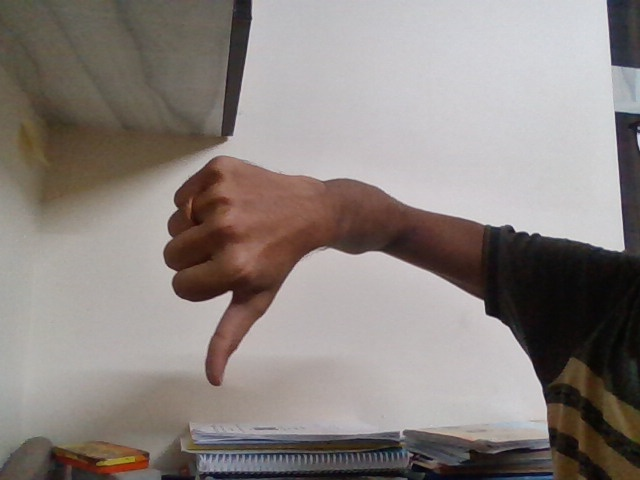No: (143, 129, 324, 409)
